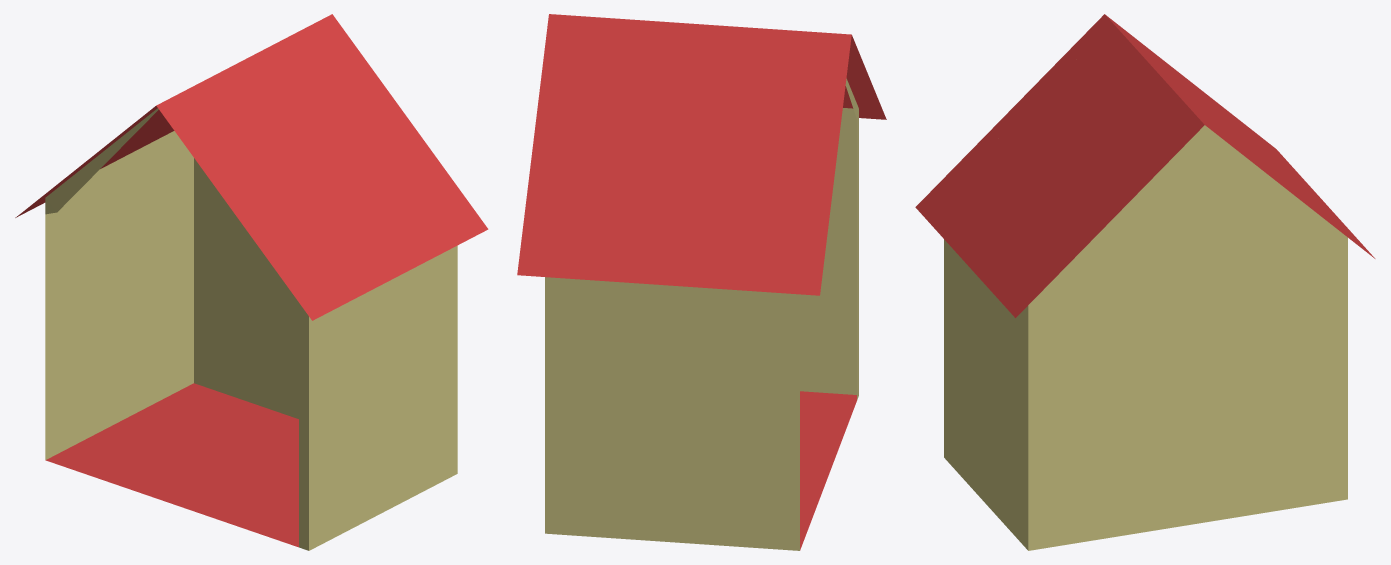
3 views of the same model, side by side, from view 1: azimuth 30°, elevation 25°; view 2: azimuth 150°, elevation 25°; view 3: azimuth 270°, elevation 25° (orthographic). The views are drawn at different scales.
Bounding box in the file's own units: 13.57 × 15.62 × 15.23.
